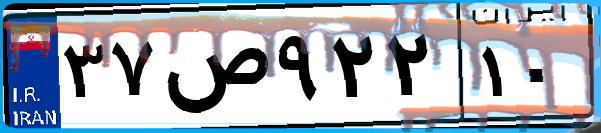0: (525, 38, 570, 115)
1: (475, 38, 525, 113)
2: (385, 28, 445, 110), (330, 28, 385, 110)
3: (57, 26, 110, 100)
7: (110, 28, 158, 98)
9: (270, 28, 330, 110)
ص: (158, 20, 270, 120)
